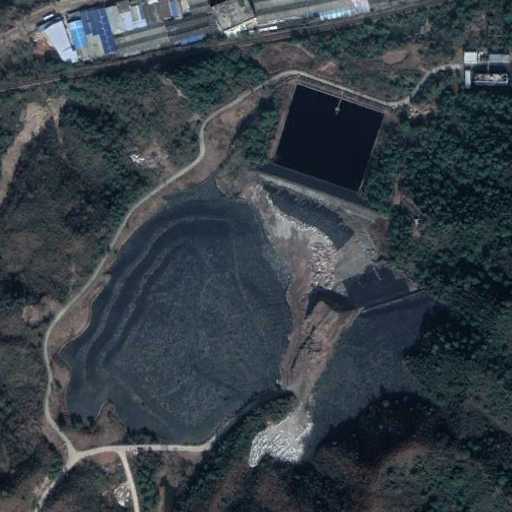lf: (50, 174, 453, 460)
